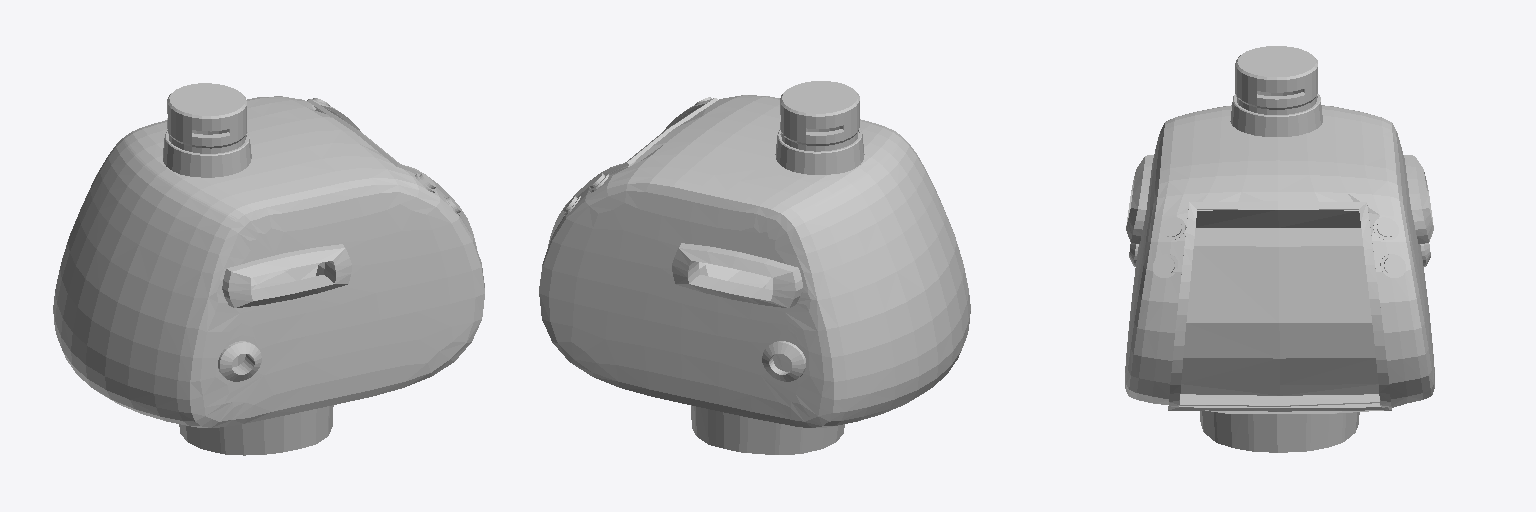
The model's file is paozuo.obj.
3 views of the same model, side by side, from view 1: azimuth 30°, elevation 25°; view 2: azimuth 150°, elevation 25°; view 3: azimuth 270°, elevation 25° (orthographic).
Parts seen in each view (by area): view 1: paozuo:paozuo; view 2: paozuo:paozuo; view 3: paozuo:paozuo.
Part boxes in pixels (left/top/right/bottom): paozuo:paozuo: left=53, top=83, right=484, bottom=455; paozuo:paozuo: left=539, top=81, right=970, bottom=454; paozuo:paozuo: left=1125, top=46, right=1434, bottom=452.
Bounding box in the file's own units: 73.22 × 69.71 × 57.71.